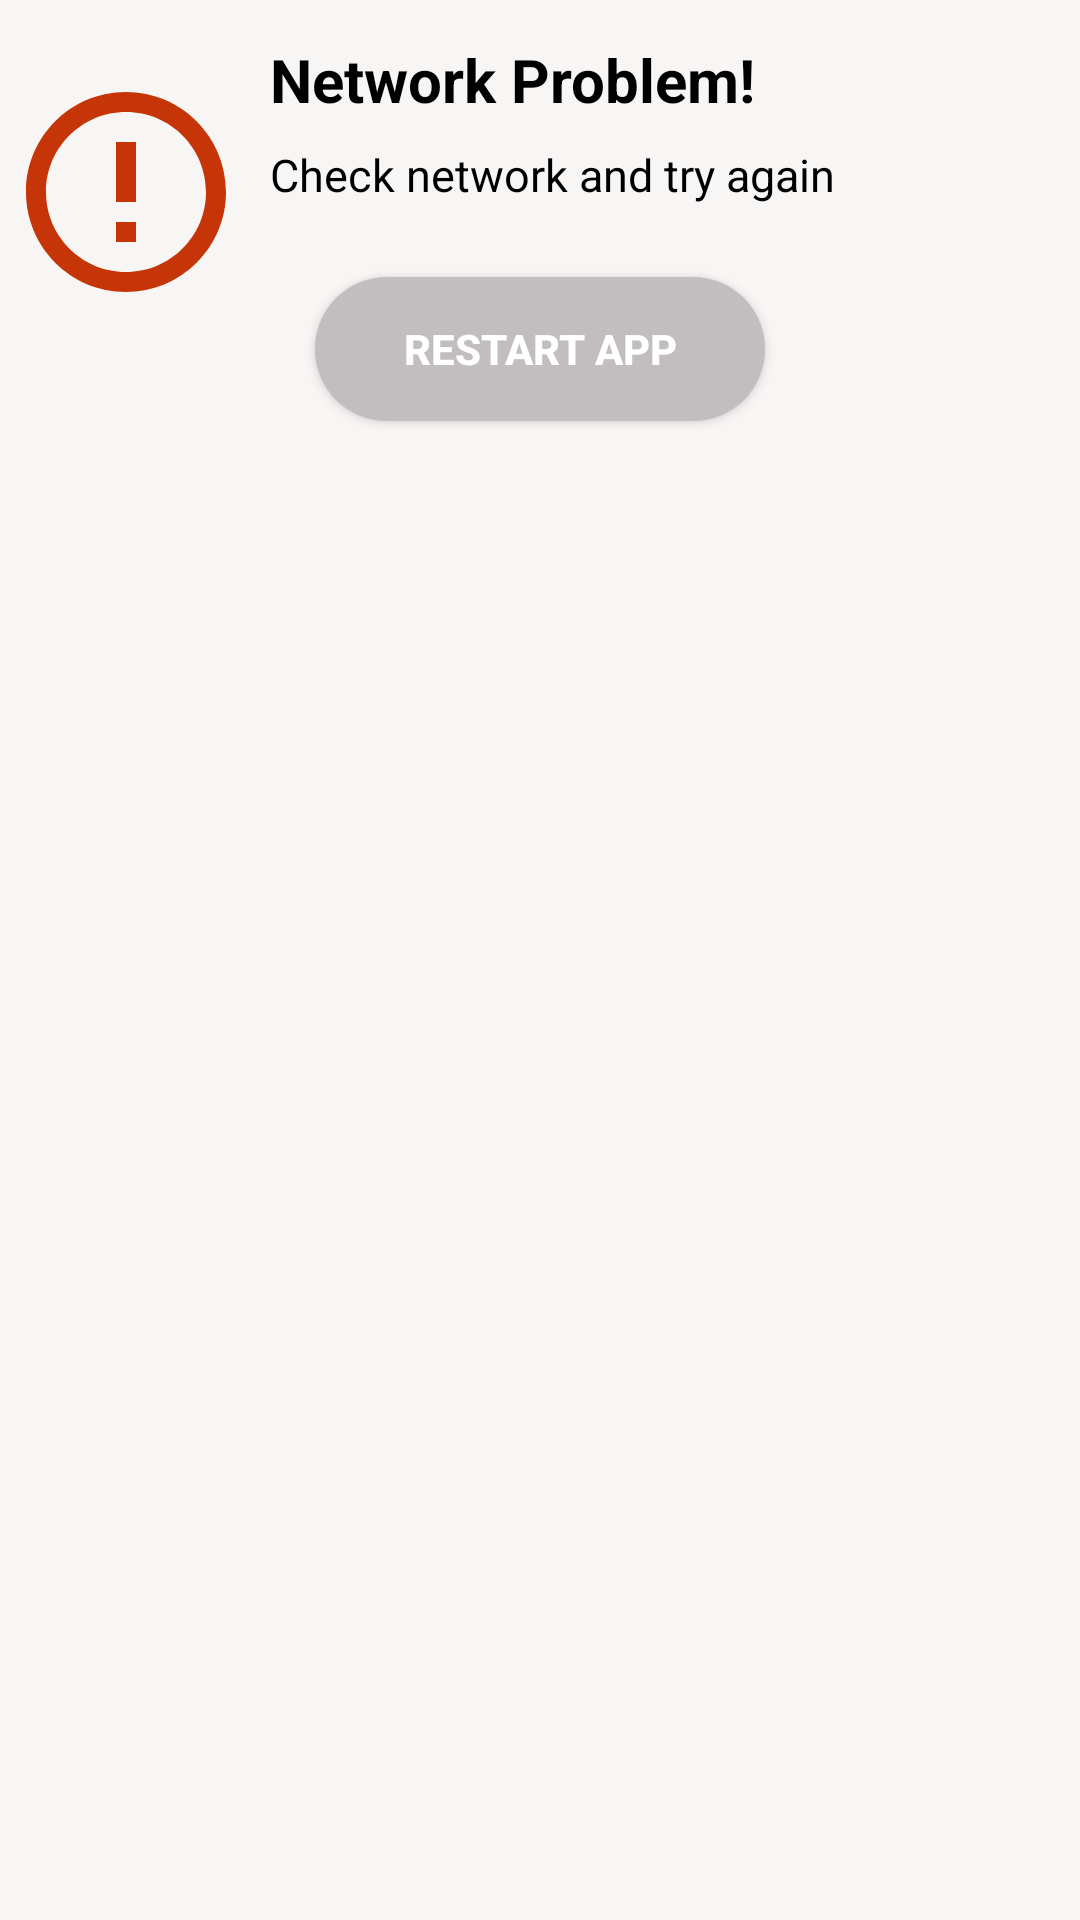

Point at icon controls on the screen. Image size 1080×1920, points as [x,y].
error: [126,192]
